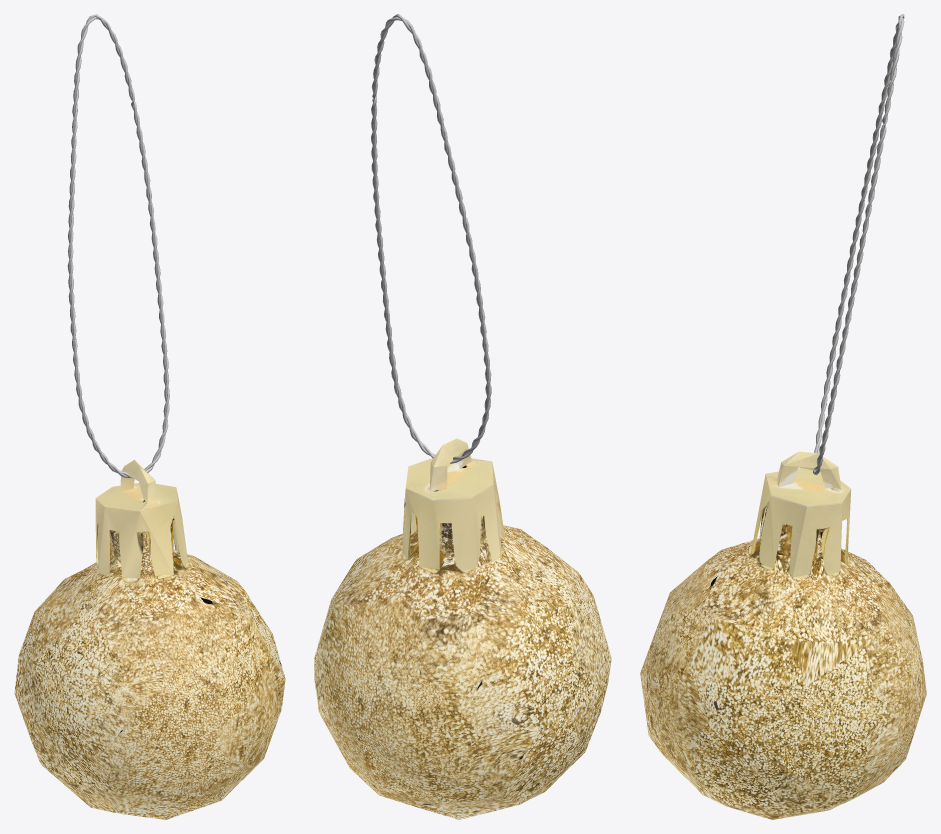
File: Golden_Glitter.glb
The picture shows the model from 3 angles, left to right: view 1: azimuth 30°, elevation 25°; view 2: azimuth 150°, elevation 25°; view 3: azimuth 270°, elevation 25°; orthographic projection. The views are drawn at different scales.
Visible parts, largest first — view 1: Mesh1.0, GN Instance; view 2: Mesh1.0, GN Instance; view 3: Mesh1.0, GN Instance.
Boxes of the visible parts, <box> form: Mesh1.0: <box>14,459,285,819</box>; GN Instance: <box>67,14,169,478</box>; Mesh1.0: <box>314,438,611,819</box>; GN Instance: <box>371,14,491,463</box>; Mesh1.0: <box>640,451,926,819</box>; GN Instance: <box>813,14,904,475</box>.
Bounding box in the file's own units: 0.0271 × 0.0848 × 0.0278.
Materials: 2 (1 with a texture image).
